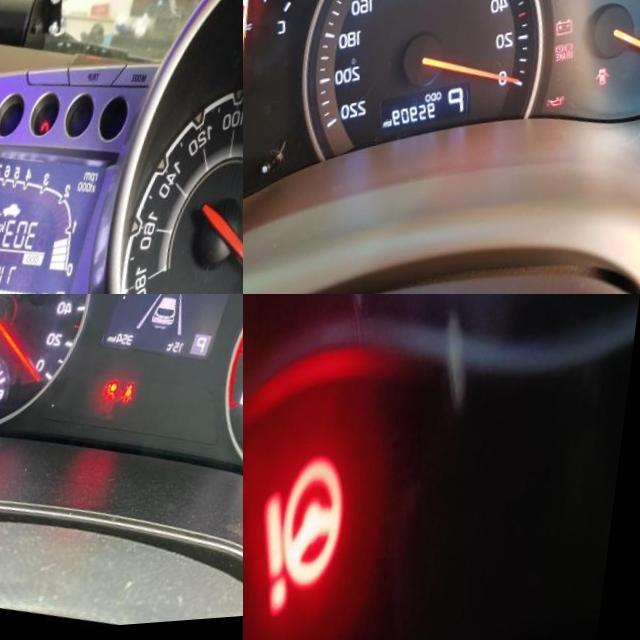Doors: (605, 73, 622, 94)
Electronic Power Steering: (258, 426, 363, 636)
